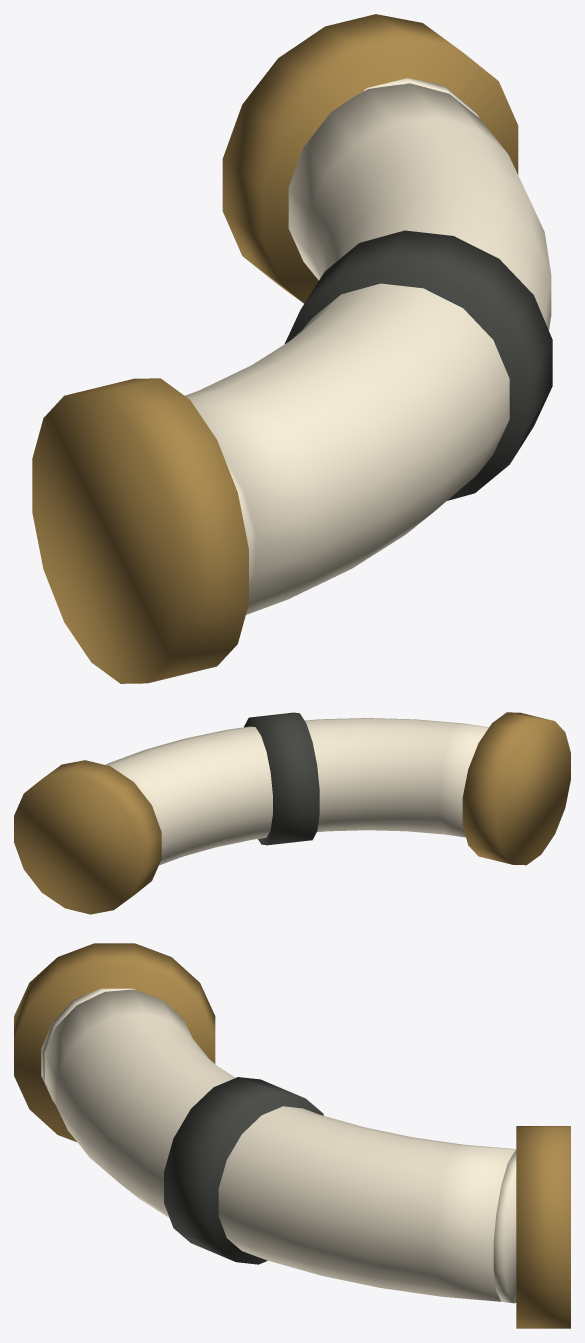
The model's file is b1_pipe_elbow.glb.
3 views of the same model, one above another, from view 1: azimuth 30°, elevation 25°; view 2: azimuth 150°, elevation 25°; view 3: azimuth 270°, elevation 25° (orthographic). The views are drawn at different scales.
Visible parts, largest first — view 1: b1_pipe_elbow; view 2: b1_pipe_elbow; view 3: b1_pipe_elbow.
Boxes of the visible parts, x1=… form: b1_pipe_elbow: x1=32, y1=14, x2=552, y2=683; b1_pipe_elbow: x1=14, y1=712, x2=570, y2=914; b1_pipe_elbow: x1=14, y1=943, x2=570, y2=1328.
Size of the model in its own units: 1.22 by 0.4414 by 1.22.
